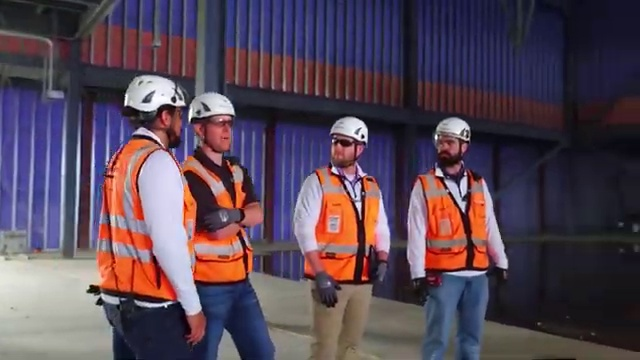helmet: (117, 71, 190, 112), (190, 89, 242, 125), (326, 116, 382, 143), (434, 116, 475, 140)
jacket: (97, 131, 198, 314), (308, 169, 391, 289), (187, 155, 257, 297), (419, 168, 491, 278)
